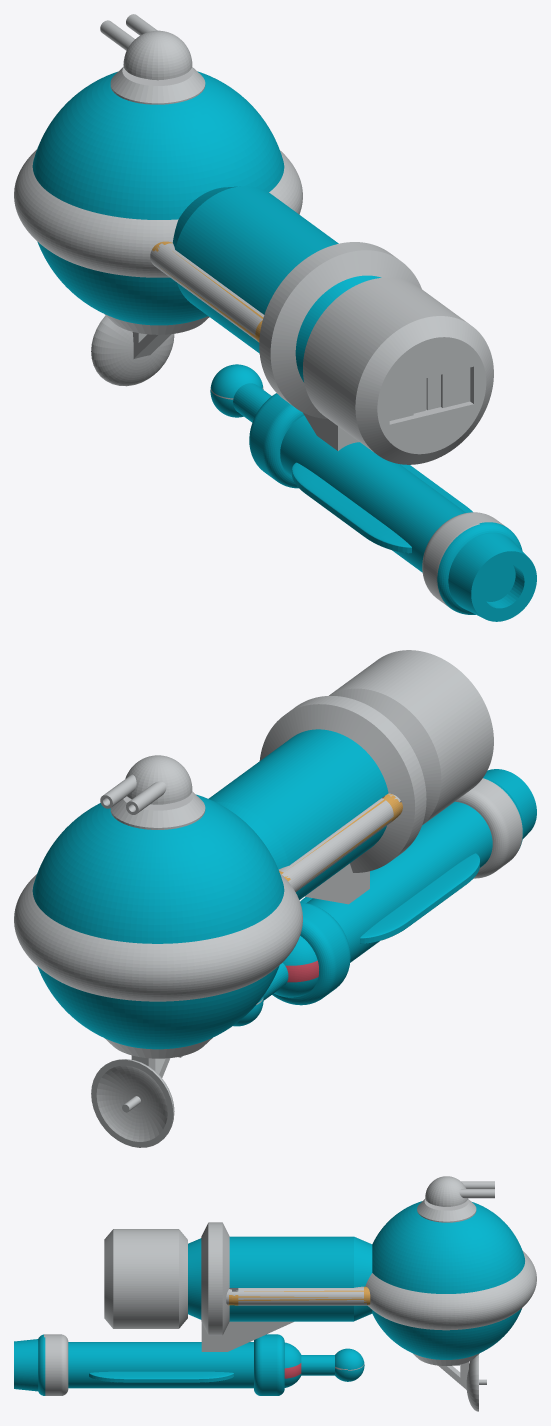
The model's file is Earth Frigate v2.glb.
3 views of the same model, one above another, from view 1: azimuth 30°, elevation 25°; view 2: azimuth 150°, elevation 25°; view 3: azimuth 270°, elevation 25° (orthographic). The views are drawn at different scales.
Parts seen in each view (by area): view 1: Mesh_Mesh_head_geo.001_lambert2SG.001; view 2: Mesh_Mesh_head_geo.001_lambert2SG.001; view 3: Mesh_Mesh_head_geo.001_lambert2SG.001.
Boxes of the visible parts, bbox=[...] form: Mesh_Mesh_head_geo.001_lambert2SG.001: bbox=[14, 14, 536, 621]; Mesh_Mesh_head_geo.001_lambert2SG.001: bbox=[14, 650, 536, 1147]; Mesh_Mesh_head_geo.001_lambert2SG.001: bbox=[14, 1176, 536, 1411].
Size of the model in its own units: 33.43 by 47.25 by 96.98.
